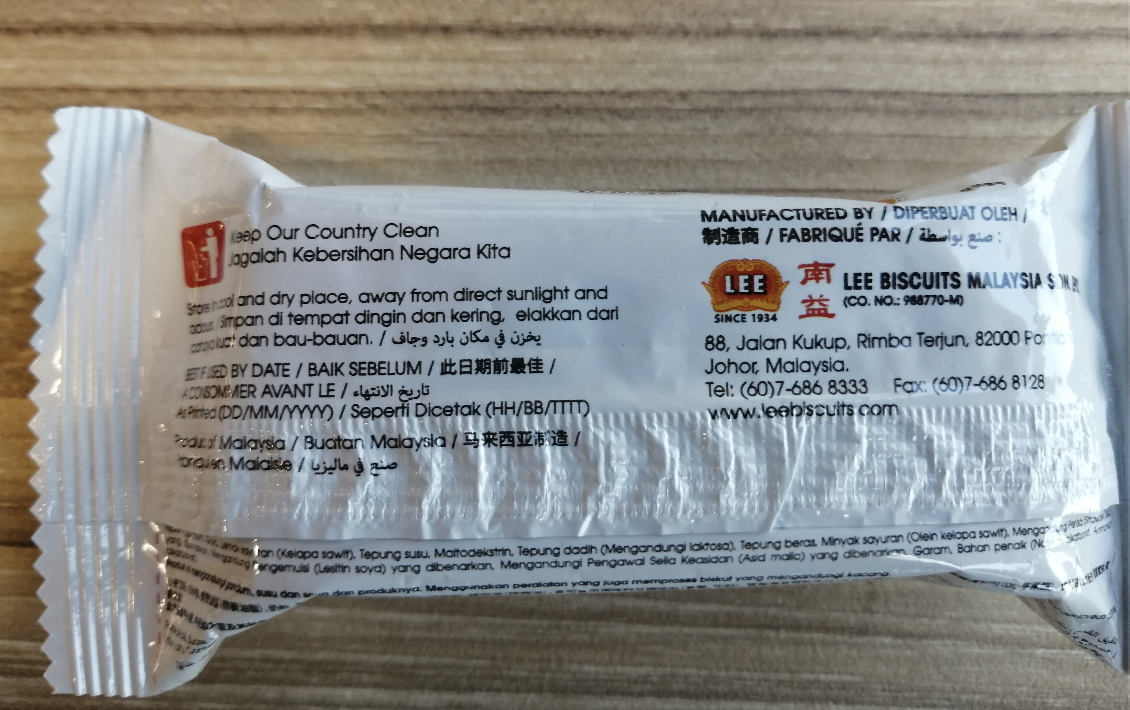Wafers: (112, 196, 1097, 560)
